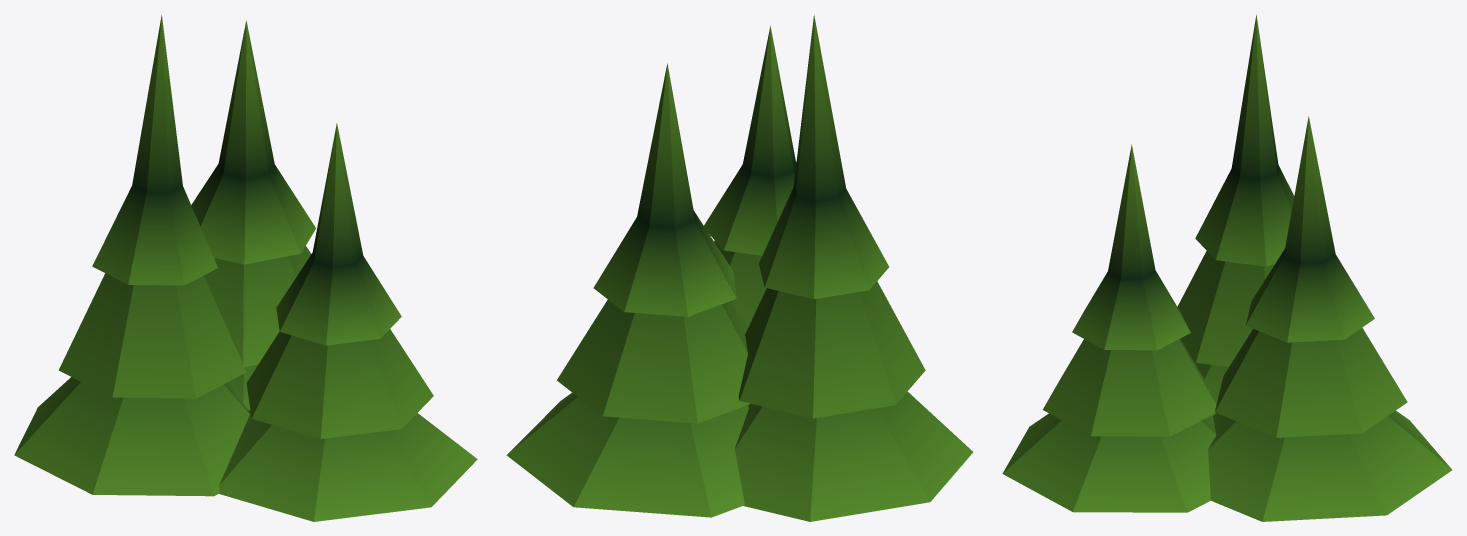
File: terrain_deco_pinetrees_l.fbx
3 renders of one model, left to right at view 1: azimuth 30°, elevation 25°; view 2: azimuth 150°, elevation 25°; view 3: azimuth 270°, elevation 25°, orthographic. The views are drawn at different scales.
Visible parts, largest first — view 1: pinetrees_large; view 2: pinetrees_large; view 3: pinetrees_large.
Boxes of the visible parts, x1,y1,x2,y2 form: pinetrees_large: (14,14,477,521); pinetrees_large: (506,14,972,521); pinetrees_large: (1002,14,1452,521).
Bounding box in the file's own units: 4.47 × 4.98 × 5.05.
